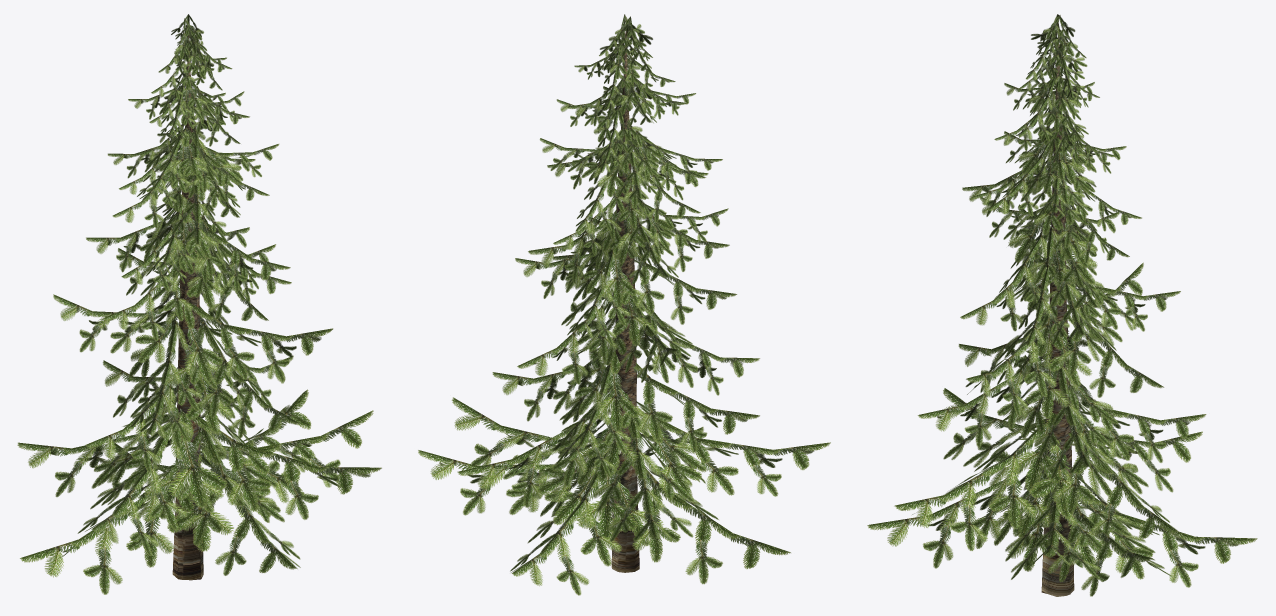
3 views of the same model, side by side, from view 1: azimuth 30°, elevation 25°; view 2: azimuth 150°, elevation 25°; view 3: azimuth 270°, elevation 25° (orthographic). The views are drawn at different scales.
Visible parts, largest first — view 1: Cylinder_Tannenast_0, Cylinder_Material.001_0; view 2: Cylinder_Tannenast_0, Cylinder_Material.001_0; view 3: Cylinder_Tannenast_0, Cylinder_Material.001_0.
Part boxes in pixels (bbox=[...]): Cylinder_Tannenast_0: bbox=[17, 14, 381, 594]; Cylinder_Material.001_0: bbox=[172, 35, 203, 580]; Cylinder_Tannenast_0: bbox=[418, 14, 830, 595]; Cylinder_Material.001_0: bbox=[611, 30, 639, 572]; Cylinder_Tannenast_0: bbox=[867, 14, 1257, 596]; Cylinder_Material.001_0: bbox=[1041, 22, 1074, 596].
Bounding box in the file's own units: 577 × 870 × 545.
2 materials, 2 textured.
